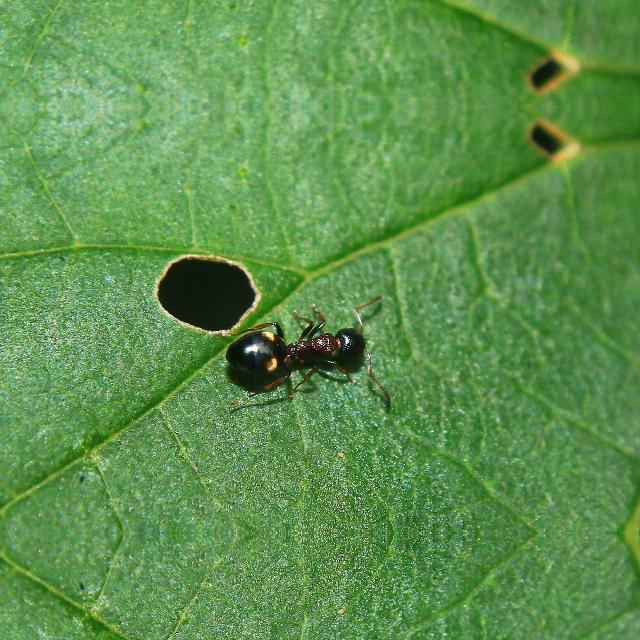Dolichoderus: (202, 300, 390, 406)
